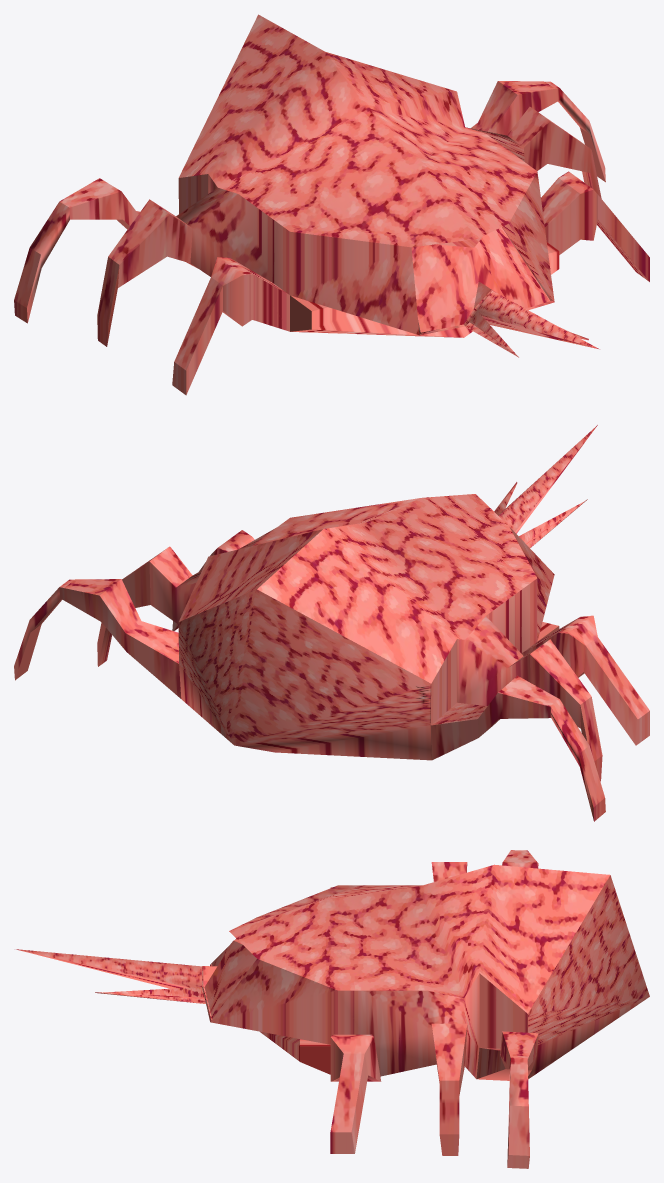
The model's file is bug.fbx.
3 views of the same model, one above another, from view 1: azimuth 30°, elevation 25°; view 2: azimuth 150°, elevation 25°; view 3: azimuth 270°, elevation 25° (orthographic). The views are drawn at different scales.
Parts seen in each view (by area): view 1: pCube1; view 2: pCube1; view 3: pCube1.
Part boxes in pixels (x1,y1,x2,y2): pCube1: (14,14,649,395); pCube1: (14,425,649,821); pCube1: (16,850,649,1168).
Bounding box in the file's own units: 17.57 × 6.33 × 19.14.
